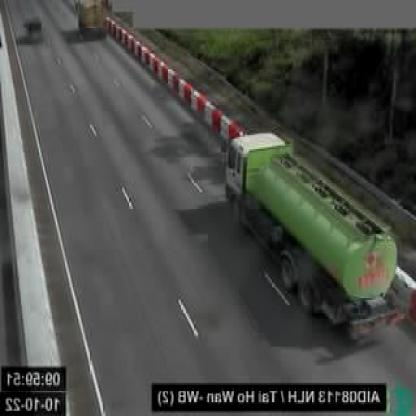Car: (26, 16, 43, 42)
Truck: (228, 131, 390, 336), (76, 0, 105, 40)
